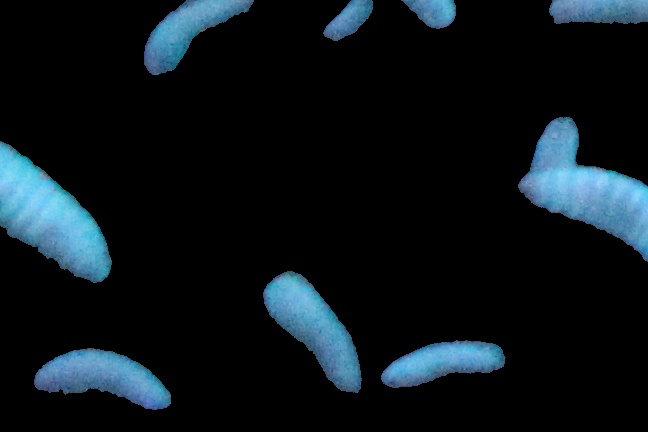larvae: (1, 138, 113, 282), (519, 164, 648, 264), (264, 271, 361, 397), (33, 347, 171, 413), (145, 1, 252, 79), (381, 339, 506, 388)
